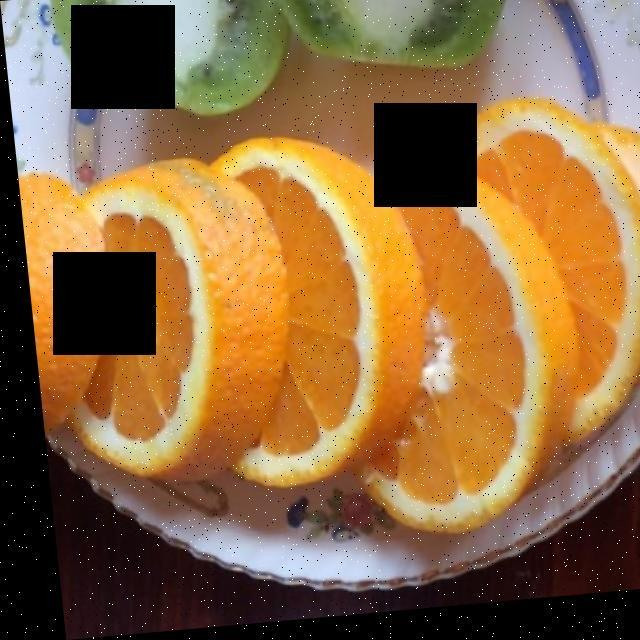orange: (24, 110, 640, 525)
